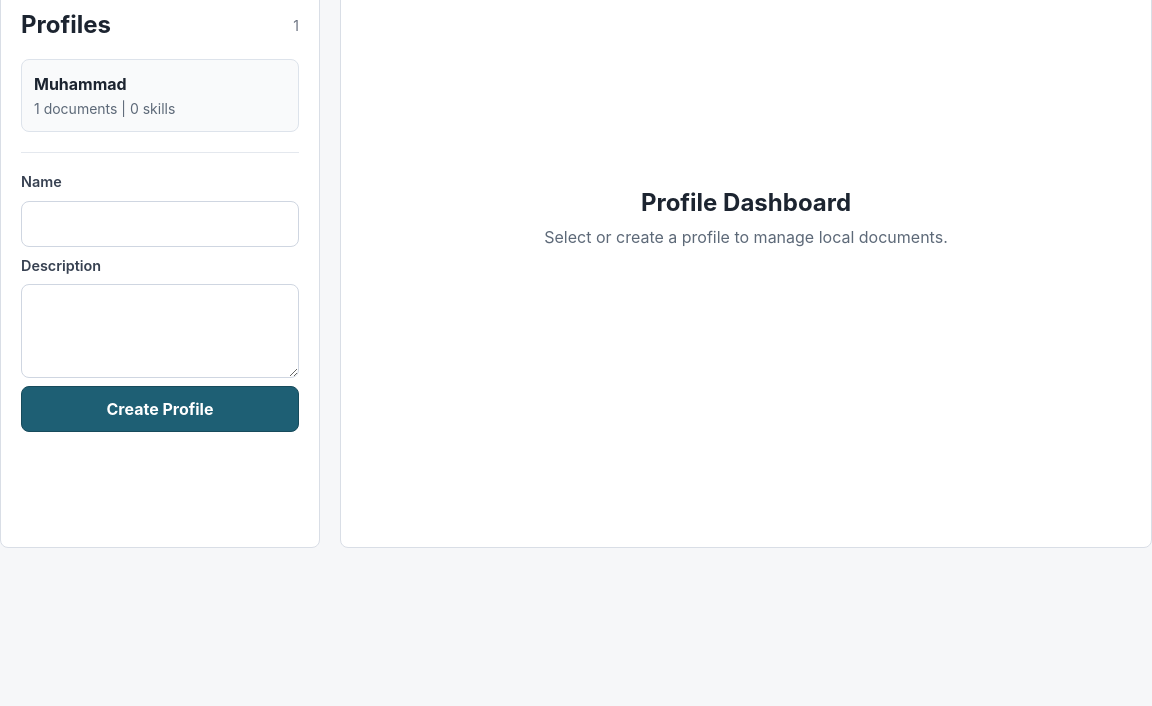
Scenario: ProfileSelector › renders profile list and opens the dashboard
Click the button "Muhammad 1 documents | 0 skills": (80, 84) left=21, top=59, right=299, bottom=132
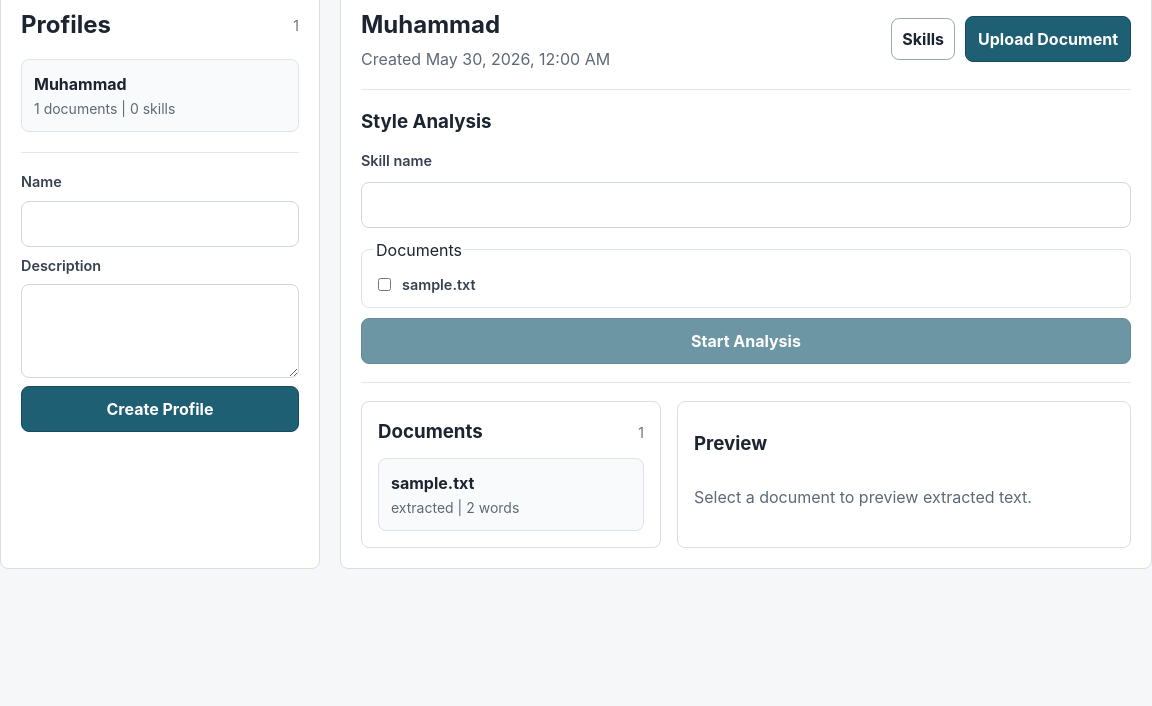
Check: the heading "Documents" is shown, box left=378, top=418, right=483, bottom=446
Click the button "sample.txt extracted | 2 words": (433, 483) left=378, top=458, right=644, bottom=531
(page scrolled)
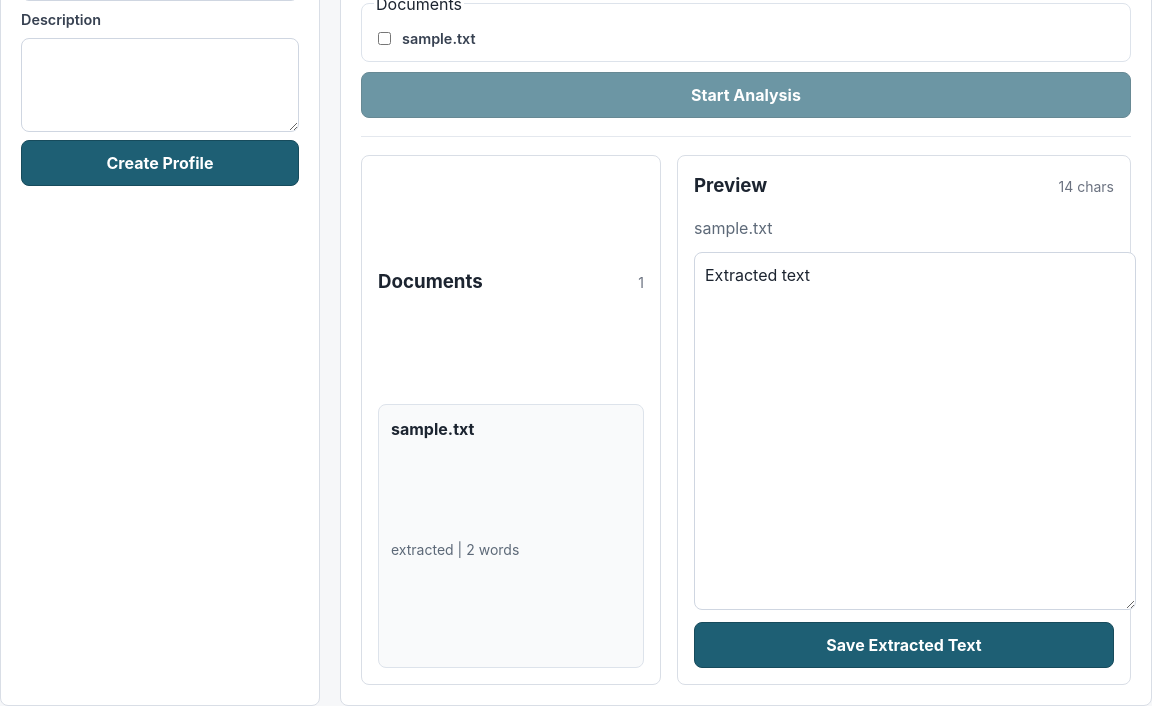
Check: the text box named "Extracted text" holds "Extracted text", box left=694, top=252, right=1136, bottom=610
